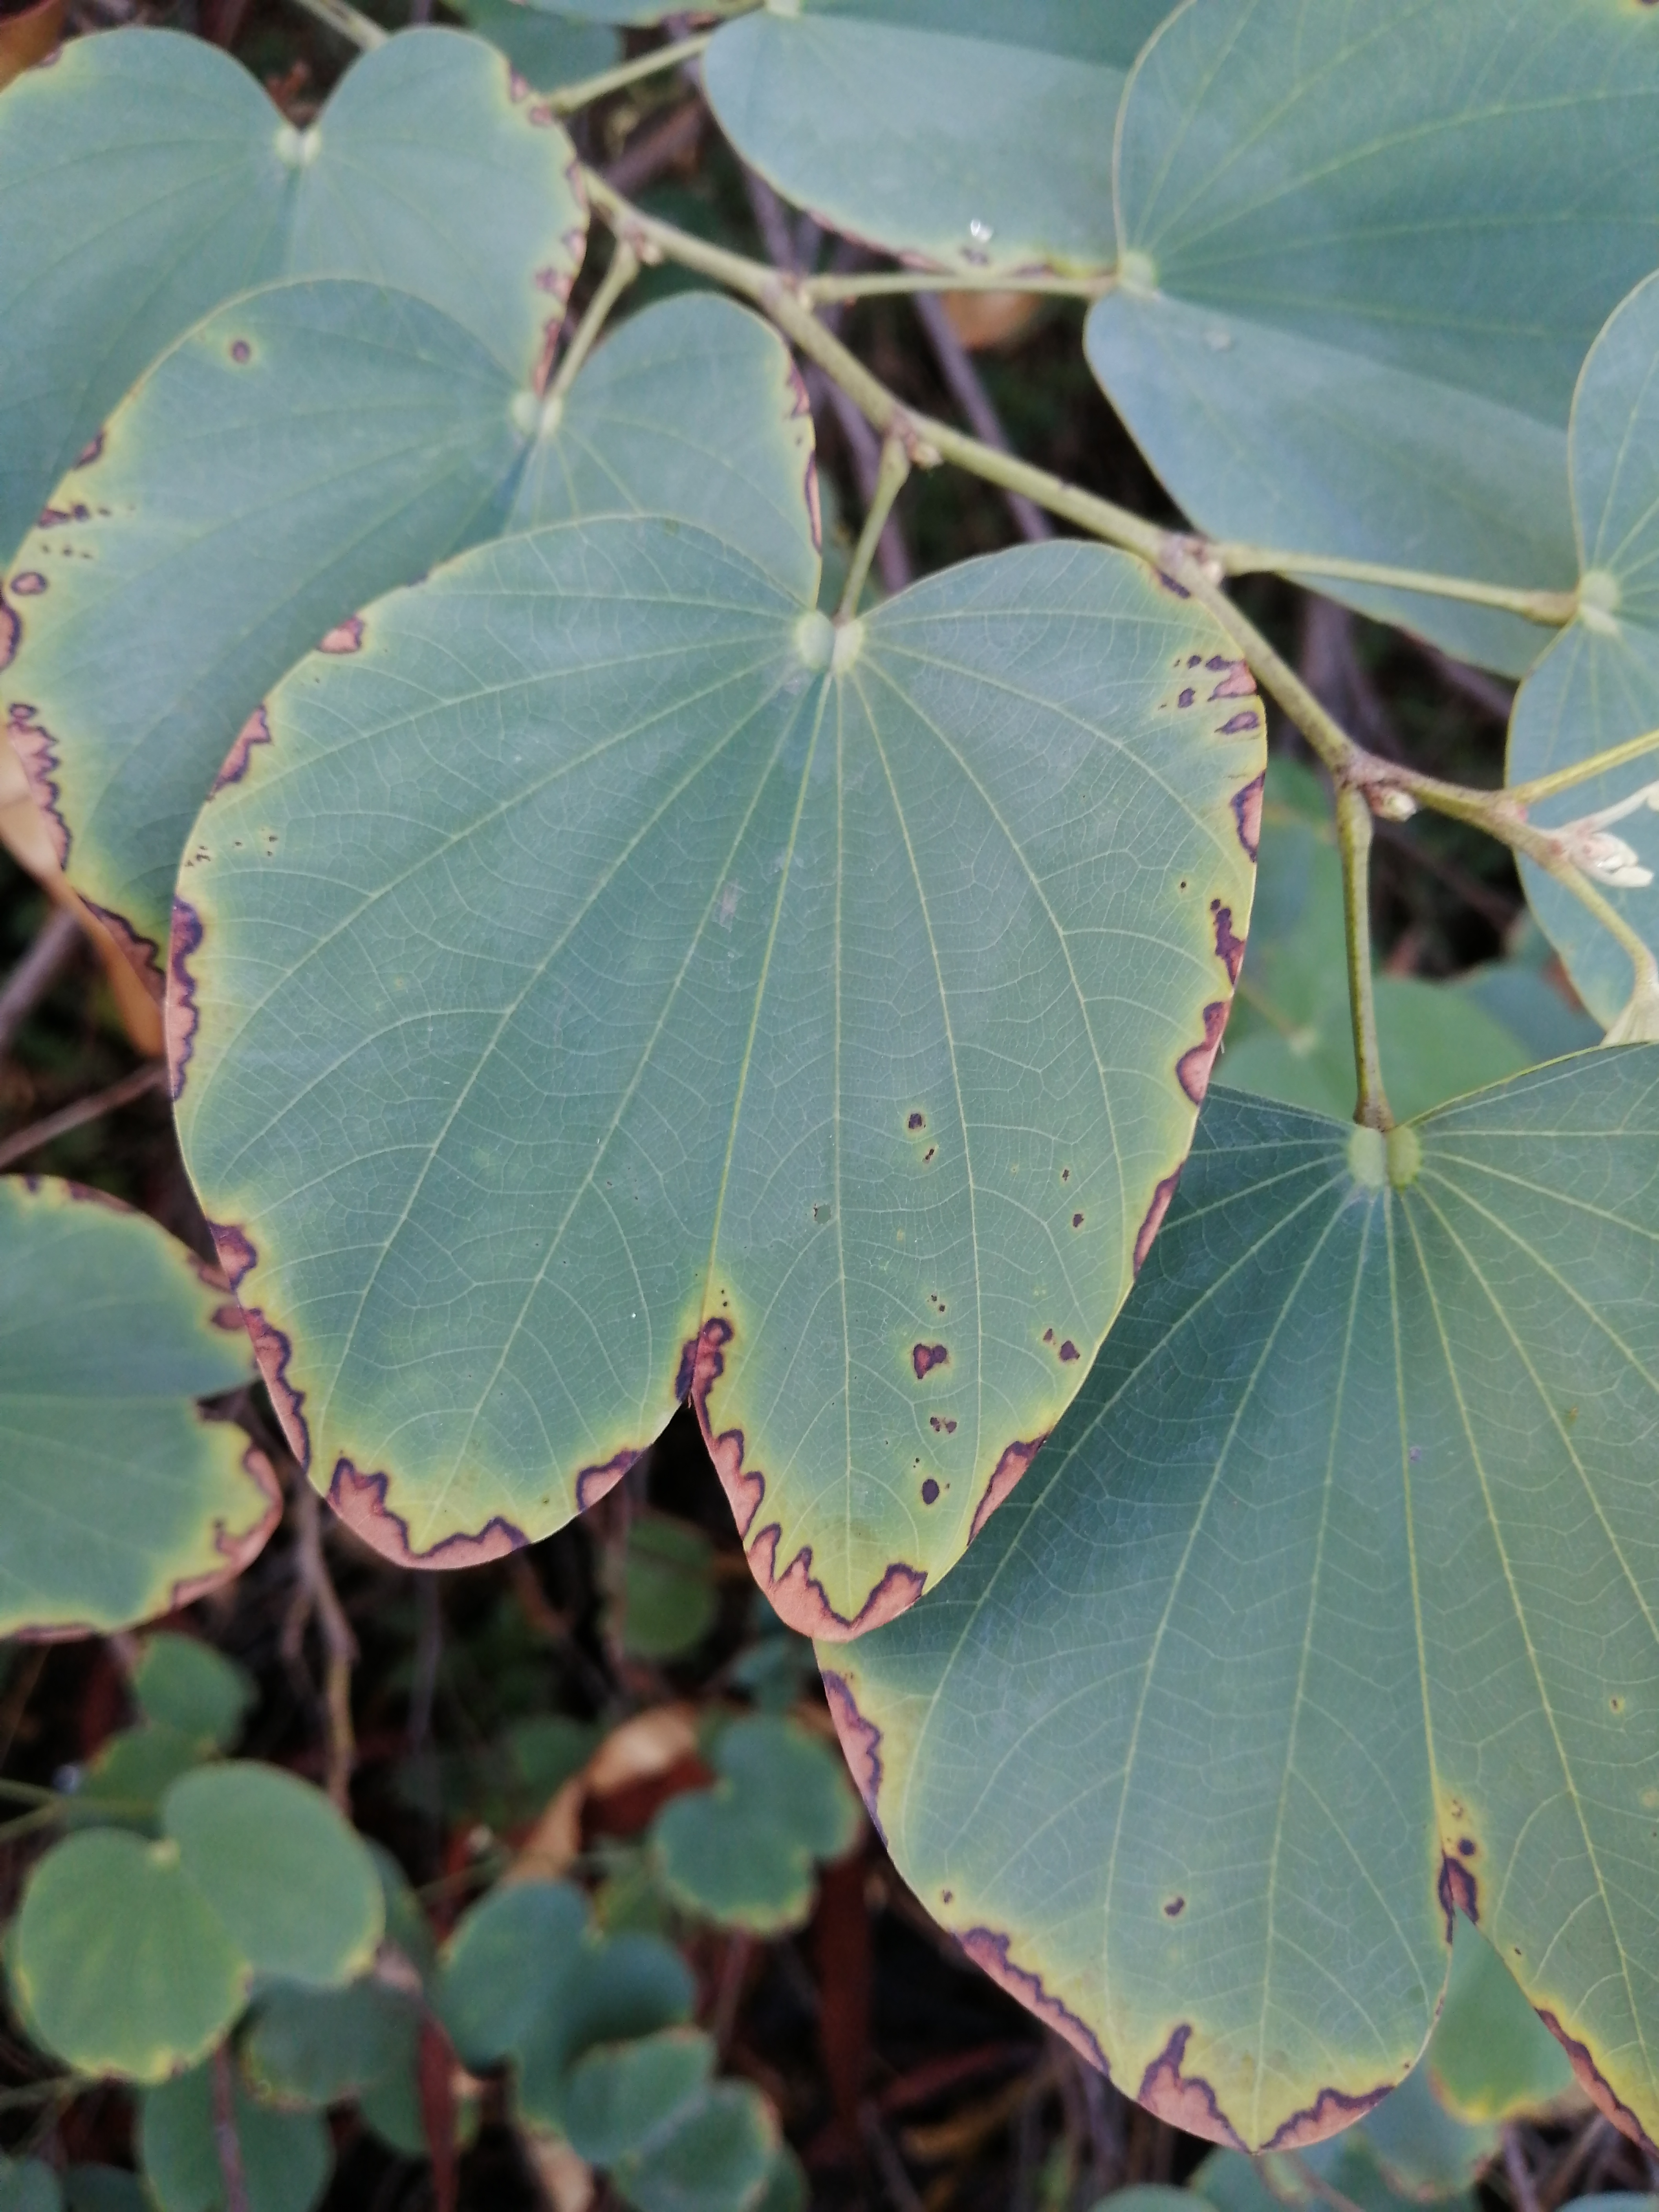nothealthy: (105, 453, 1258, 1629), (687, 1047, 1659, 2202), (0, 277, 863, 937)
